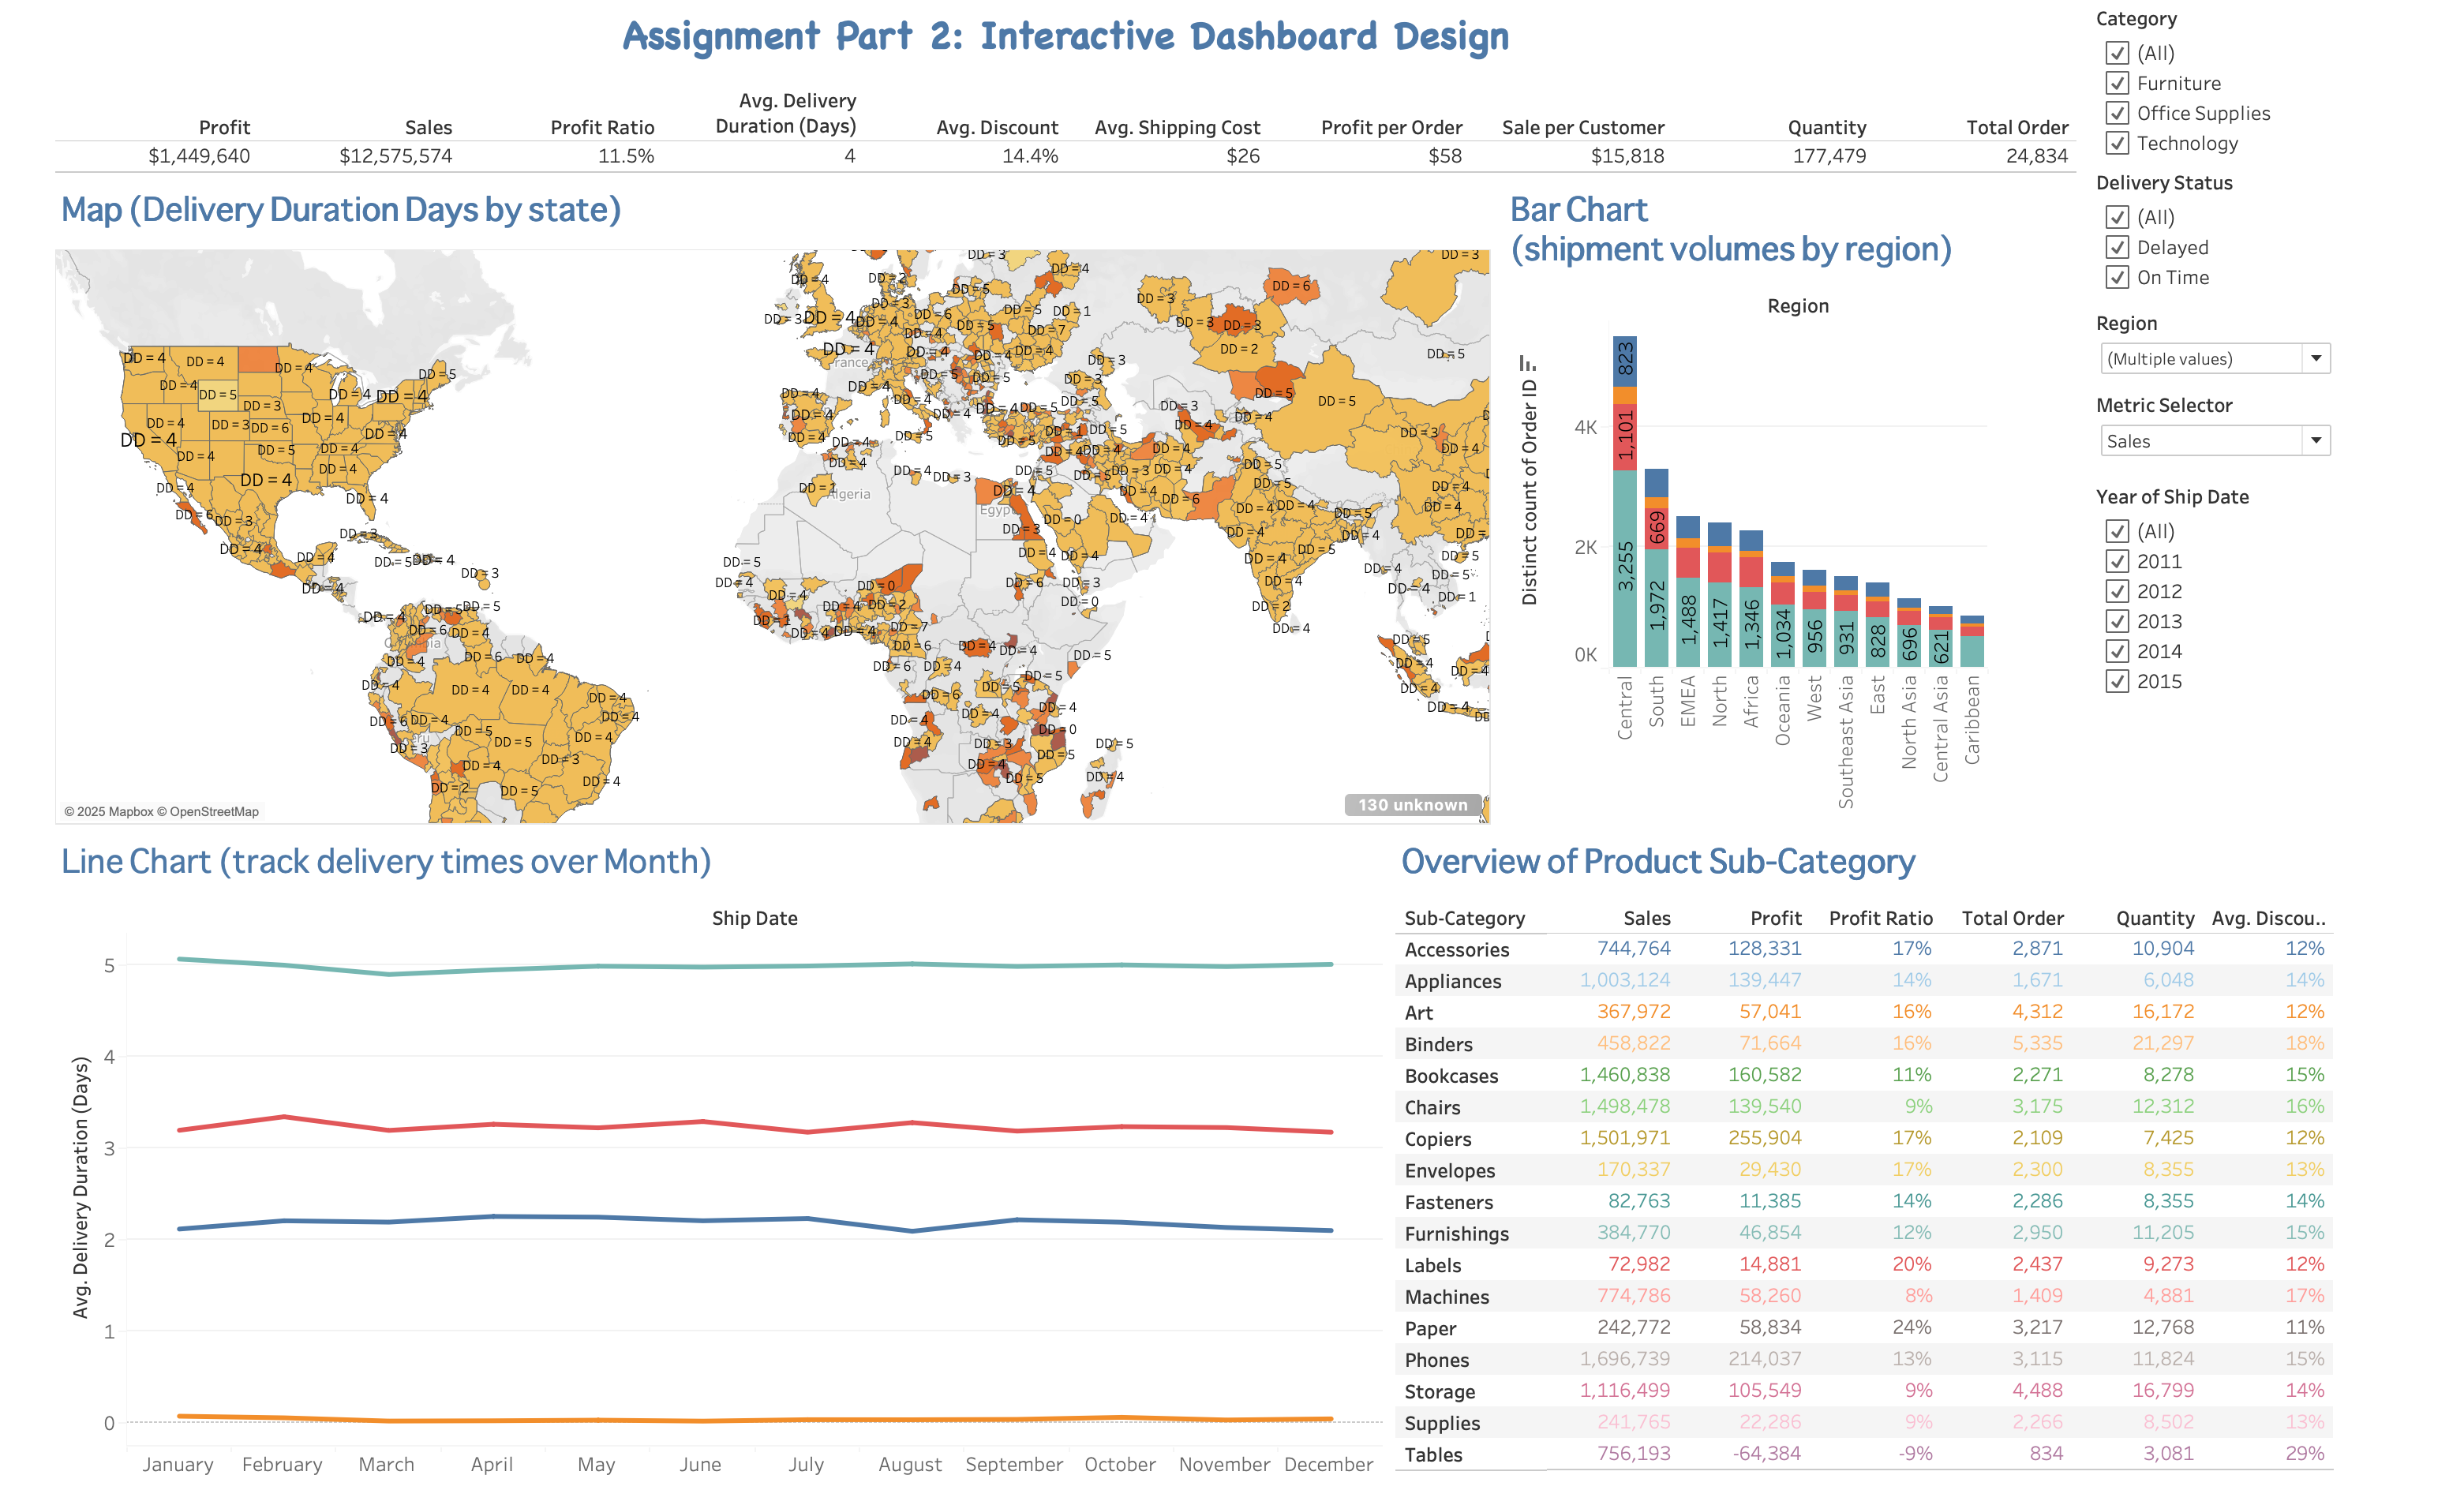

The page's visual inventory and layout, read from the dashboard file:
{"tool":"tableau","page":{"name":"Dashboard 1","canvas":[1469,1318],"ordinal":0},"visuals":[{"type":"worksheet","title":"KPI","mark":"Automatic","box":[8,8,1293,115]},{"type":"filter","title":"BAR CHART","param":"[federated.1yavv4d0nvbc5l1g7wrs61j52avz].[none:Category:nk]","box":[1301,8,160,104]},{"type":"filter","title":"BAR CHART","param":"[federated.1yavv4d0nvbc5l1g7wrs61j52avz].[none:Calculation_3807371286253957121:n","box":[1301,112,160,89]},{"type":"worksheet","title":"MAP","mark":"Multipolygon","box":[8,123,918,413.3]},{"type":"worksheet","title":"BAR CHART","mark":"Automatic","rows":["Order ID"],"cols":["Region"],"box":[926,123,375,413.3]},{"type":"filter","title":"BAR CHART","param":"[federated.1yavv4d0nvbc5l1g7wrs61j52avz].[none:Region:nk]","box":[1301,201,160,52]},{"type":"parameter","param":"[Parameters].[Parameter 1]","box":[1301,253,160,58]},{"type":"filter","title":"MAP","param":"[federated.1yavv4d0nvbc5l1g7wrs61j52avz].[yr:Ship Date:ok]","box":[1301,311,160,146]},{"type":"worksheet","title":"LINE CHART","mark":"Automatic","rows":["Calculation_3807371286246944768"],"cols":["Ship Date"],"box":[8,536.3,848.8,413.7]},{"type":"worksheet","title":"Overview of Product Sub-Category","mark":"Automatic","rows":["Sub-Category"],"box":[856.8,536.3,604,413.7]},{"type":"worksheet","title":"Profit & Sales by Customer Name","mark":"Automatic","rows":["Profit"],"cols":["Sales"],"box":[8,950,849,360]},{"type":"worksheet","title":"Line Chart (track delivery times over Month)","mark":"Pie","box":[857,950,604,223]},{"type":"worksheet","title":"Shipping Cost by Shipping Mode","mark":"Automatic","rows":["Ship Mode"],"cols":["Shipping Cost"],"box":[857,1176,604,134]}]}

Visuals, with their boxes on the page's 1469x1318 design canvas (x1, y1, x2, y2). These are canvas units, not pixel positions in the 2464x1490 screenshot, which may show the page scaled, cropped or inside an application window:
"KPI" worksheet: <box>8,8,1301,123</box>
"BAR CHART" filter: <box>1301,8,1461,112</box>
"BAR CHART" filter: <box>1301,112,1461,201</box>
"MAP" worksheet (Multipolygon marks): <box>8,123,926,536</box>
"BAR CHART" worksheet: <box>926,123,1301,536</box>
"BAR CHART" filter: <box>1301,201,1461,253</box>
parameter: <box>1301,253,1461,311</box>
"MAP" filter: <box>1301,311,1461,457</box>
"LINE CHART" worksheet: <box>8,536,857,950</box>
"Overview of Product Sub-Category" worksheet: <box>857,536,1461,950</box>
"Profit & Sales by Customer Name" worksheet: <box>8,950,857,1310</box>
"Line Chart (track delivery times over Month)" worksheet (Pie marks): <box>857,950,1461,1173</box>
"Shipping Cost by Shipping Mode" worksheet: <box>857,1176,1461,1310</box>
